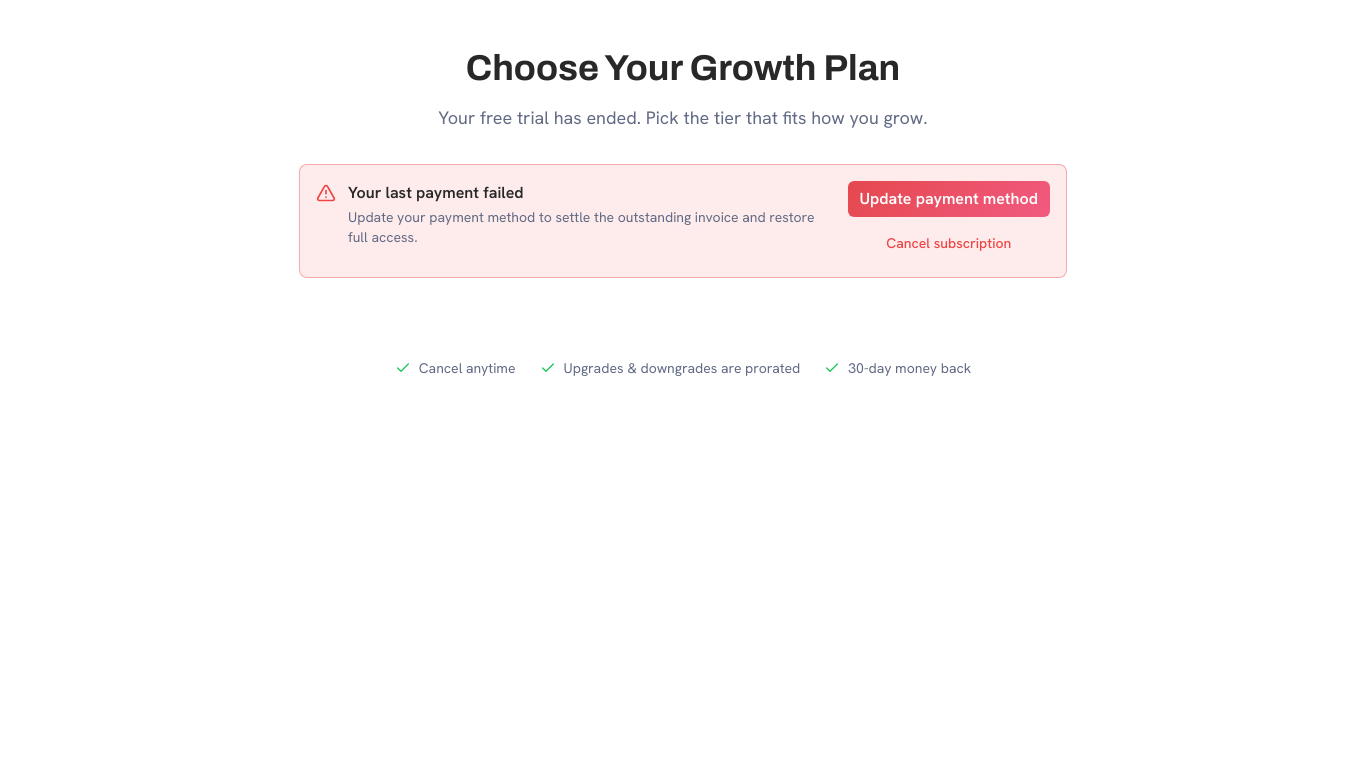
Scenario: Plans billing recovery › lets a past-due customer cancel from the banner
The width and height of the screenshot is (1366, 768).
Later steps or results of the test are not shown.
Click the button "Cancel subscription".
click(949, 243)  # box [848, 225, 1050, 261]
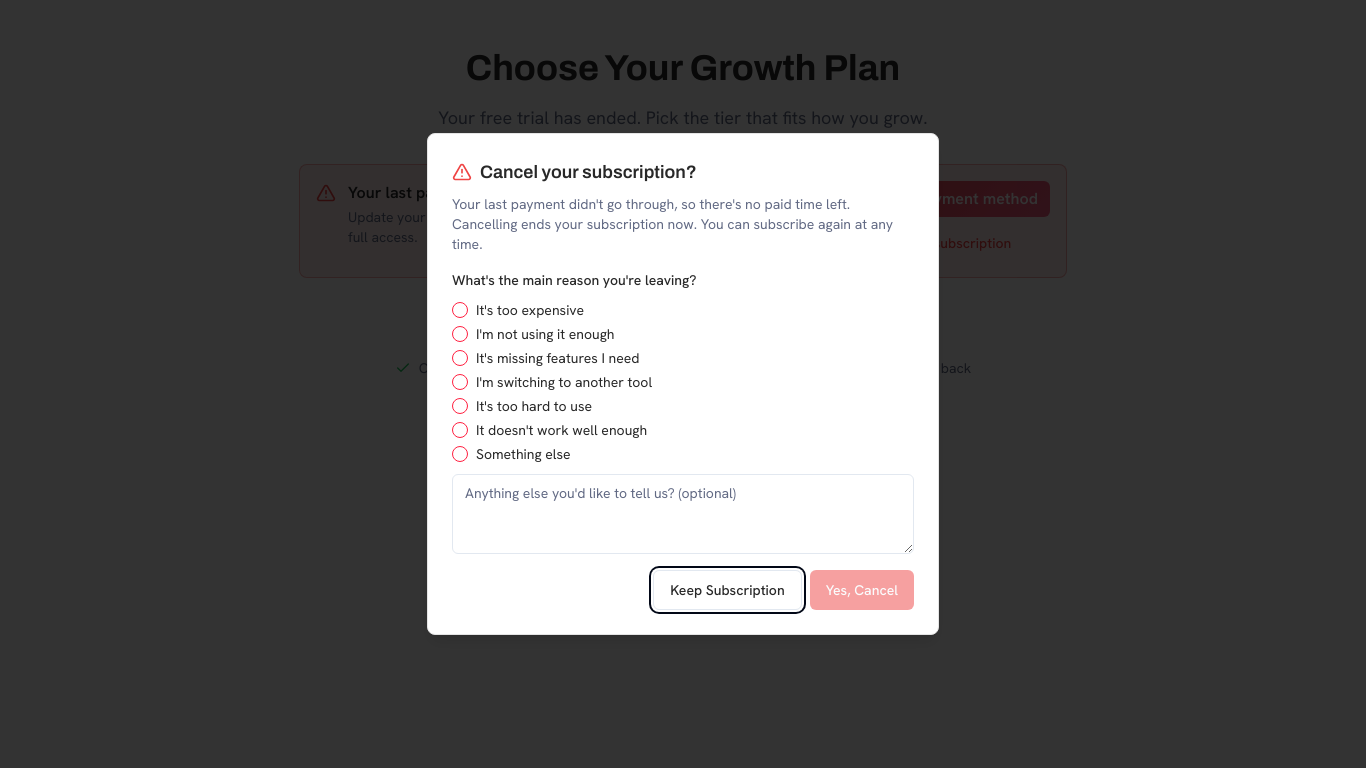
expect the text "there's no paid time left" is shown: met, box [452, 195, 893, 253]
